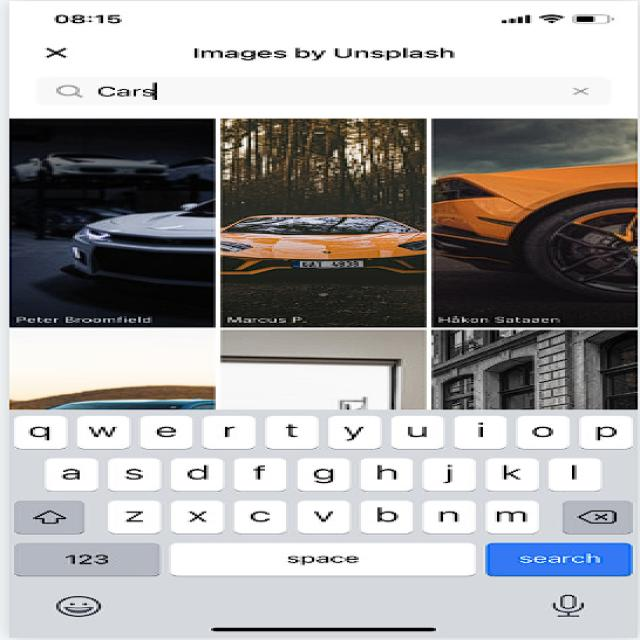icon button: (30, 37, 115, 72)
image: (428, 114, 640, 328), (7, 117, 220, 329), (219, 116, 425, 326)
input: (21, 74, 638, 110)
text: (179, 44, 476, 64)
